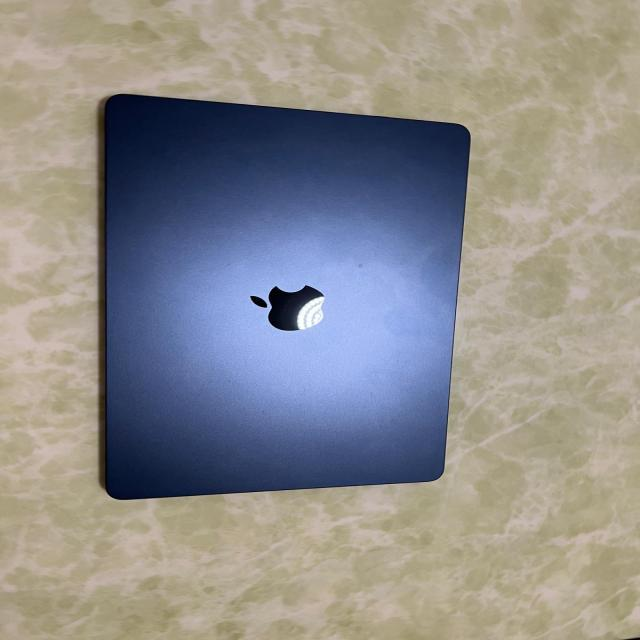laptop: (100, 91, 471, 499)
